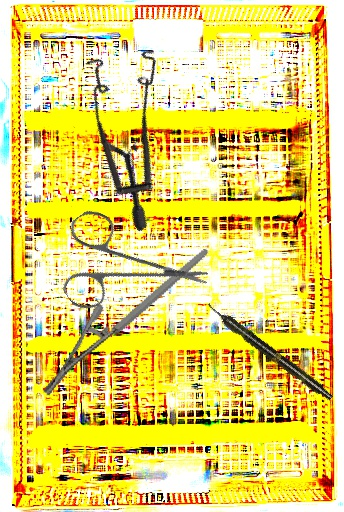Handpiece: (203, 299, 336, 404)
Iris Scissors: (33, 174, 212, 355)
Needle Holder: (14, 248, 237, 398)
Speculum: (44, 27, 233, 233)
